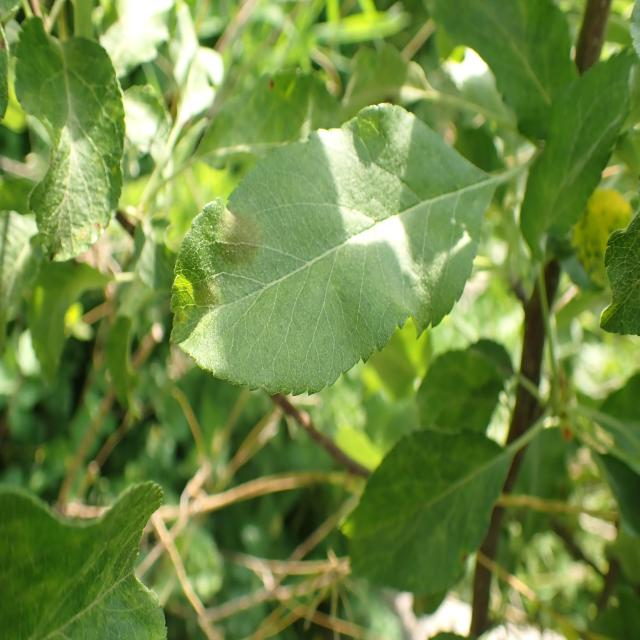scab: (156, 164, 283, 358)
